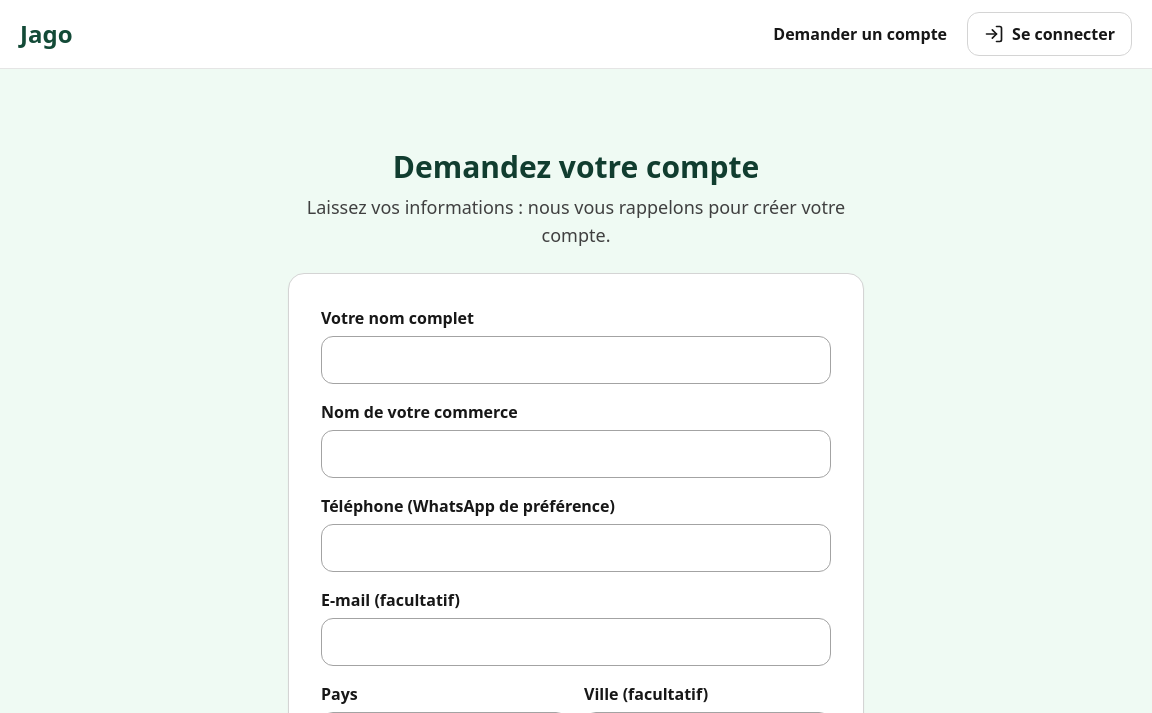
page d’accueil › affiche un message clair si le serveur limite les envois
The width and height of the screenshot is (1152, 713).
(page scrolled)
Type "Awa Traoré" into the field labelled "Votre nom complet".
click(576, 360); type("Awa Traoré")  # box x1=321 y1=336 x2=831 y2=384
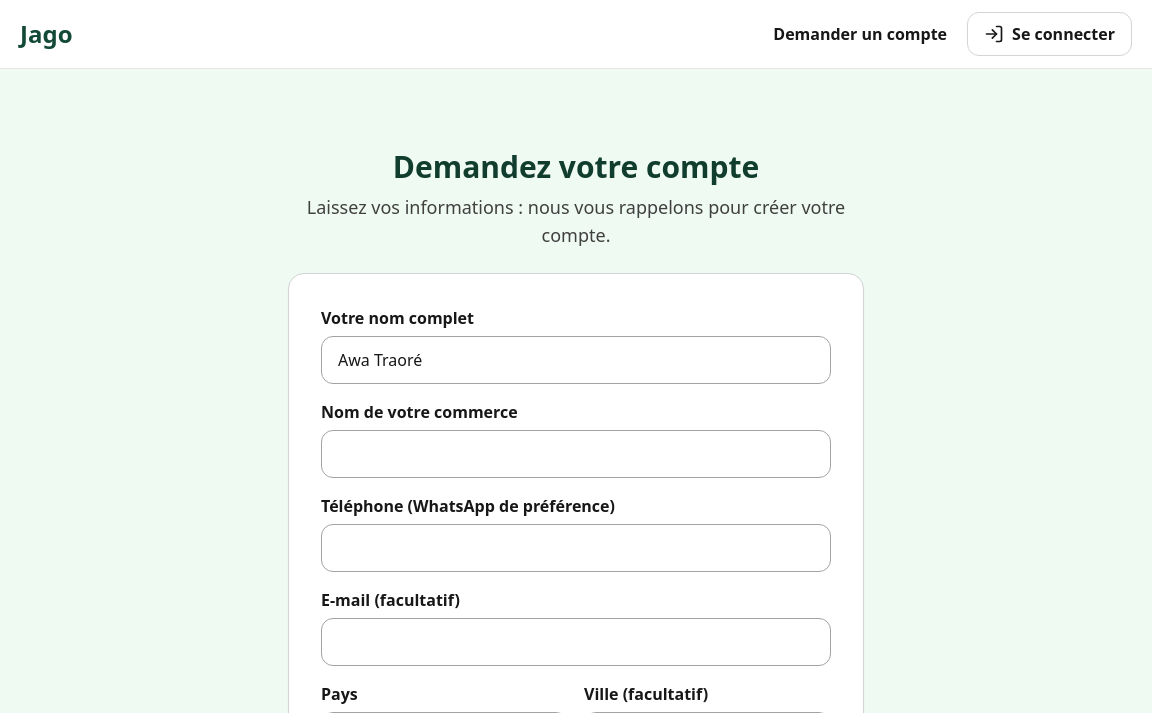
Type "Boutique Awa" into the field labelled "Nom de votre commerce".
click(576, 454); type("Boutique Awa")  # box x1=321 y1=430 x2=831 y2=478
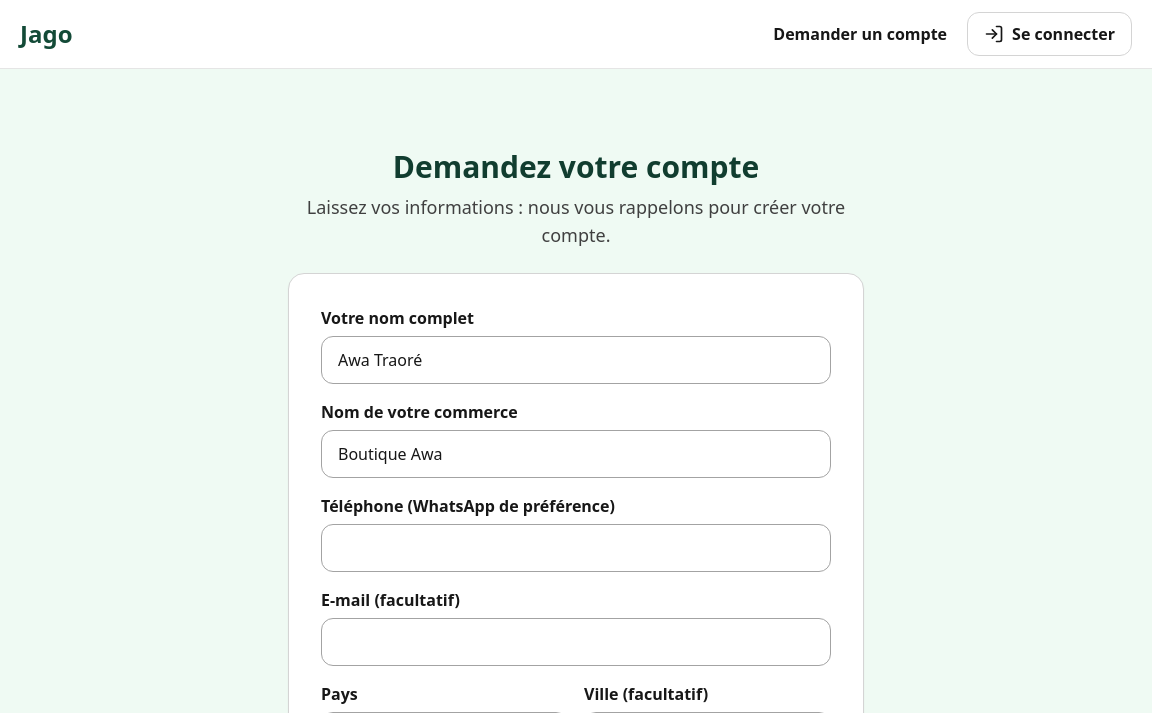
Type "70123456" into the field labelled "Téléphone (WhatsApp de préférence)".
click(576, 548); type("70123456")  # box x1=321 y1=524 x2=831 y2=572
(page scrolled)
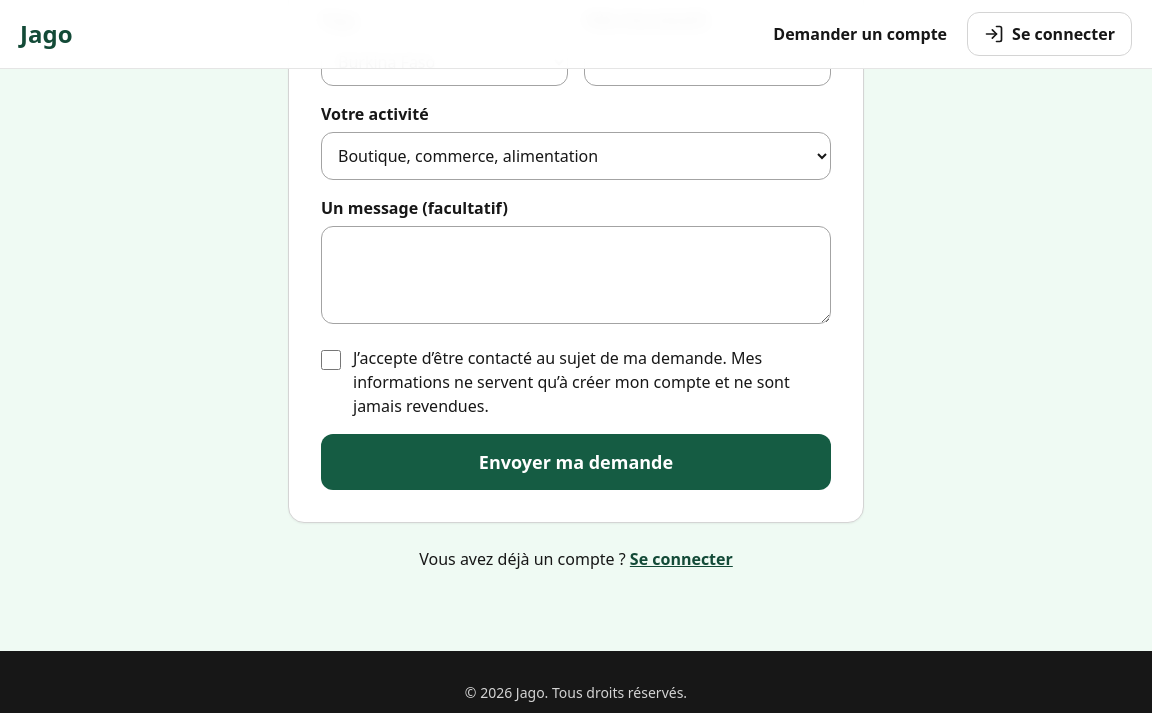
Click the checkbox labelled "J’accepte d’être contacté".
click(331, 360)  # box x1=321 y1=350 x2=341 y2=370
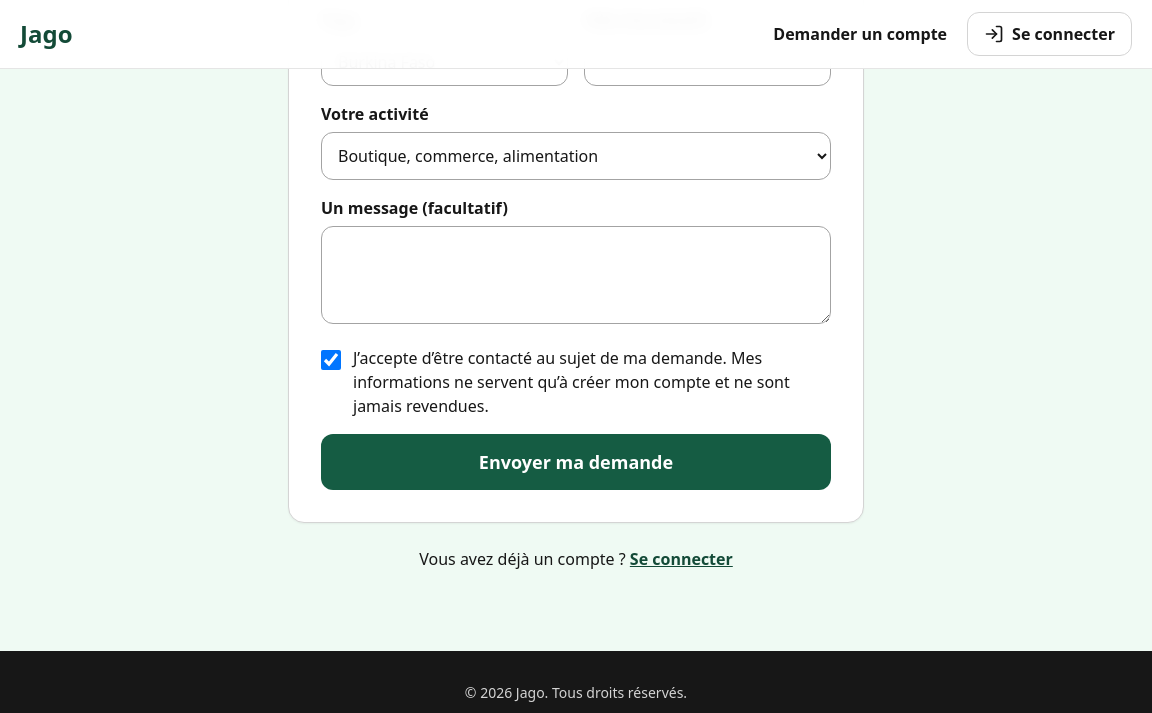
Click the button "Envoyer ma demande".
click(576, 462)  # box x1=321 y1=434 x2=831 y2=490
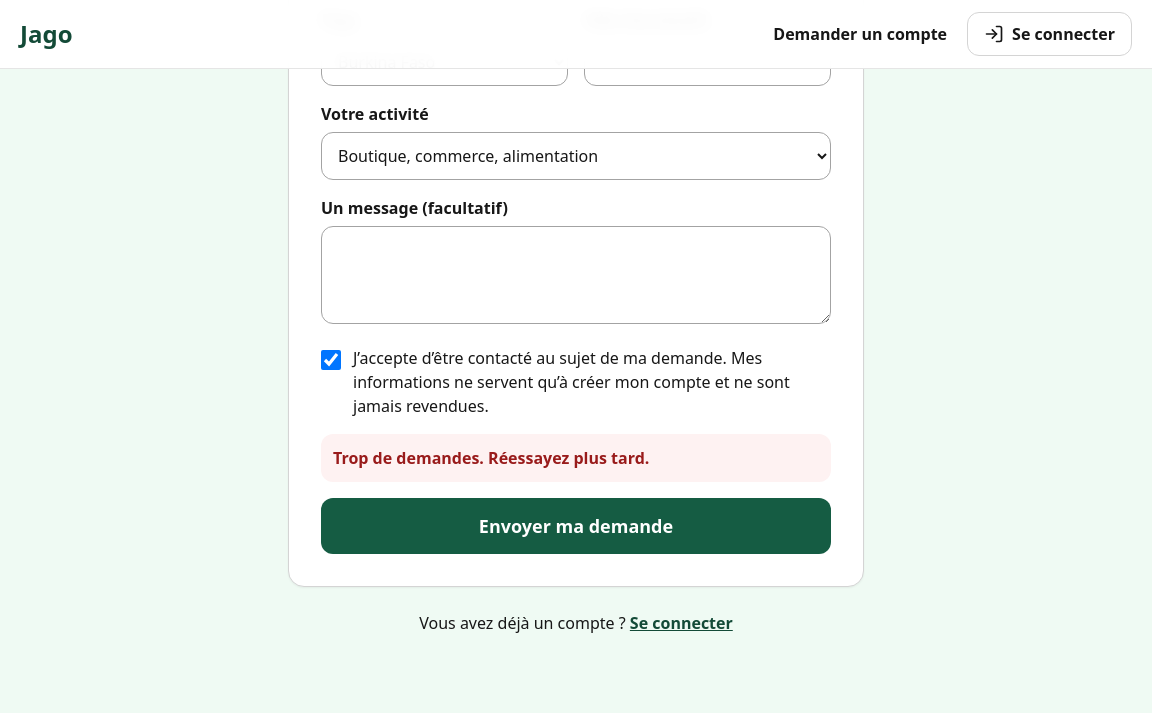
Expected: the text "Trop de demandes. Réessayez plus tard." is shown, x1=321 y1=434 x2=831 y2=482
